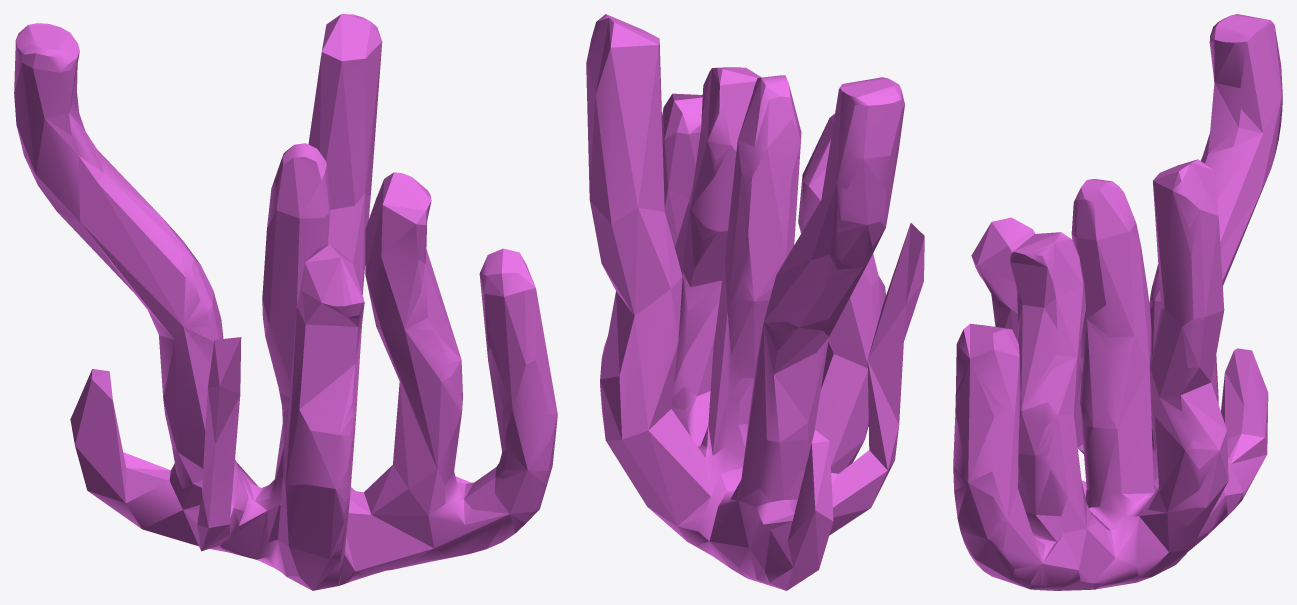
Rendered from coral2.fbx.
3 views of the same model, side by side, from view 1: azimuth 30°, elevation 25°; view 2: azimuth 150°, elevation 25°; view 3: azimuth 270°, elevation 25° (orthographic). The views are drawn at different scales.
Visible parts, largest first — view 1: coral.009; view 2: coral.009; view 3: coral.009.
Part boxes in pixels (x1,y1,x2,y2): coral.009: (14,14,557,590); coral.009: (586,14,924,590); coral.009: (953,14,1282,590).
Bounding box in the file's own units: 37.38 × 48.89 × 31.04.
